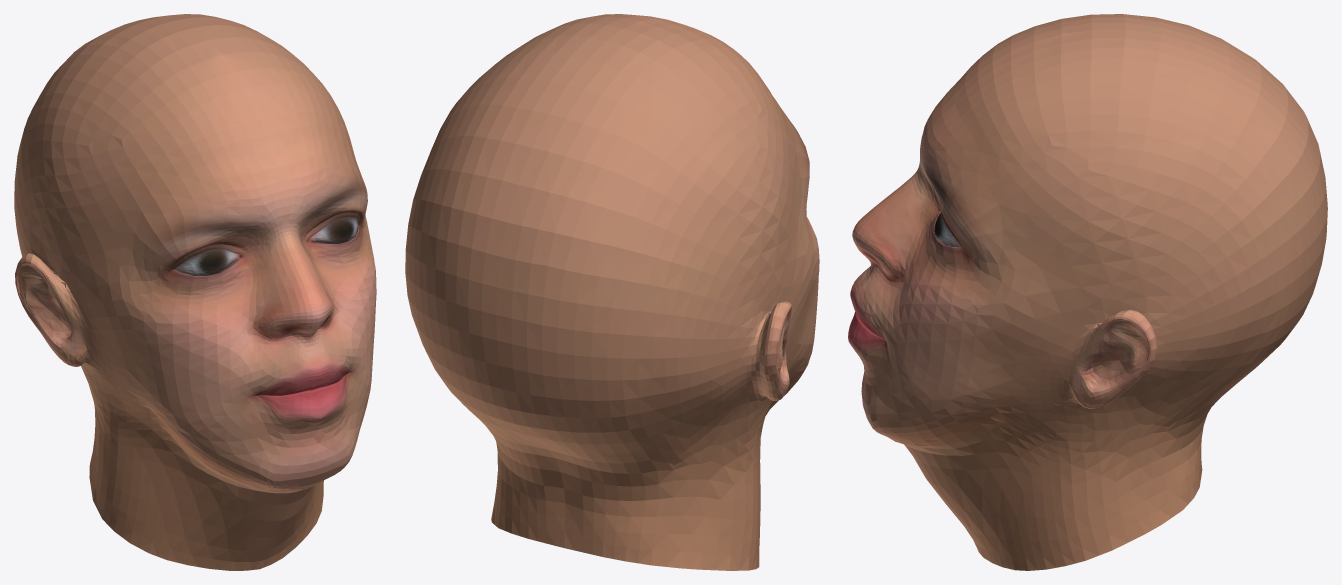
File: WIDE_FACE.obj
3 views of the same model, side by side, from view 1: azimuth 30°, elevation 25°; view 2: azimuth 150°, elevation 25°; view 3: azimuth 270°, elevation 25° (orthographic). The views are drawn at different scales.
Visible parts, largest first — view 1: skin_hi, eyeR_hi, eyeL_hi; view 2: skin_hi; view 3: skin_hi.
Boxes of the visible parts, x1=… form: skin_hi: x1=14, y1=14, x2=376, y2=570; eyeR_hi: x1=174, y1=249, x2=239, y2=275; eyeL_hi: x1=308, y1=217, x2=357, y2=243; skin_hi: x1=405, y1=14, x2=819, y2=570; skin_hi: x1=848, y1=14, x2=1327, y2=570.
Size of the model in its own units: 197 by 283 by 238.
Materials: 7 (7 with a texture image).
